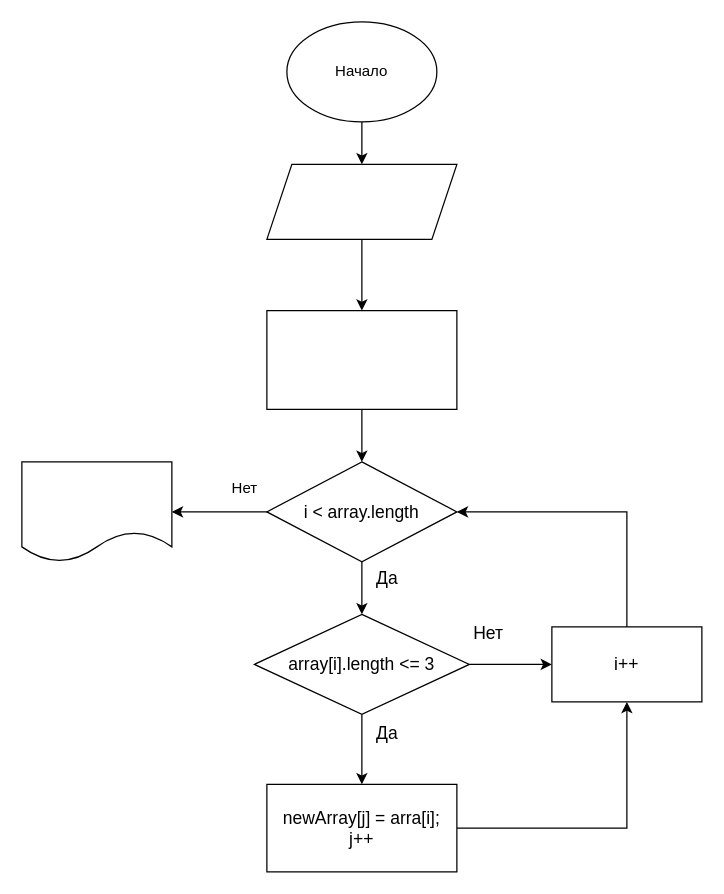
Image size: 724x894. Some labels were removed from this diagram. Here are the shapes that lost their labels. From the top down, the centre of each, then its label:
At (x=361, y=201): "Ввод начального массива array[]".
At (x=361, y=359): "Создание пустого массива newArray[]; i = 0; j = 0".
At (x=96, y=511): "newArray".
